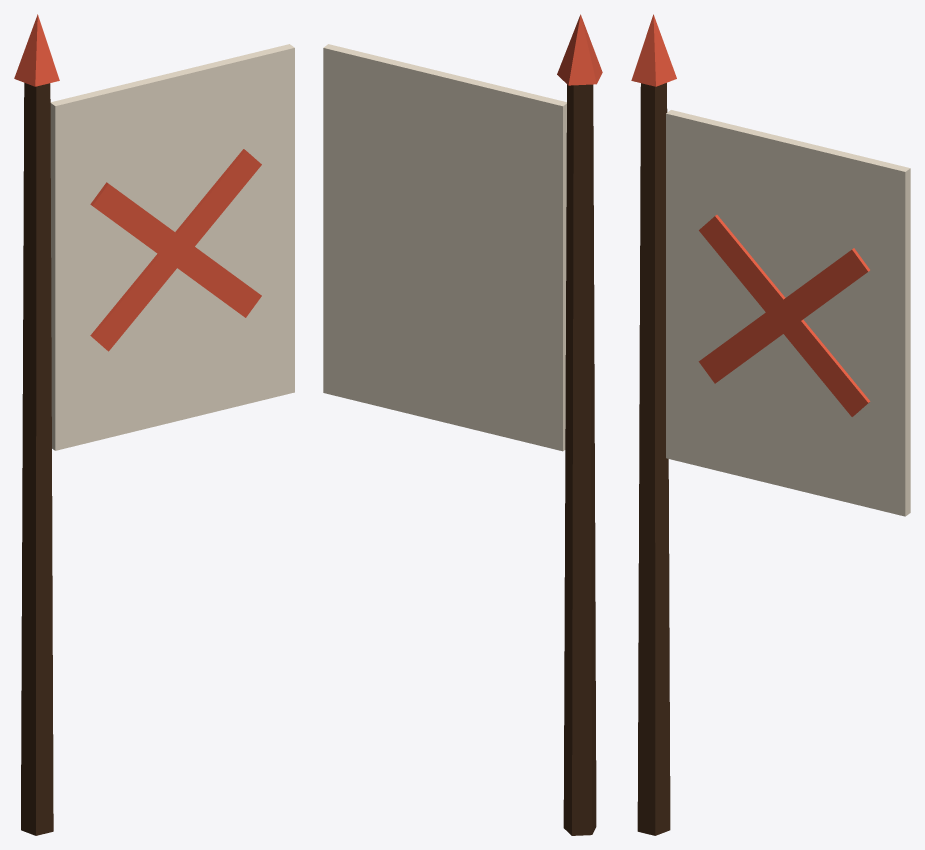
The model's file is prop_plague_banner.glb.
The picture shows the model from 3 angles, left to right: view 1: azimuth 30°, elevation 25°; view 2: azimuth 150°, elevation 25°; view 3: azimuth 330°, elevation 25°; orthographic projection.
Parts seen in each view (by area): view 1: prop_plague_banner; view 2: prop_plague_banner; view 3: prop_plague_banner.
Boxes of the visible parts, x1=… form: prop_plague_banner: x1=14, y1=14, x2=294, y2=835; prop_plague_banner: x1=323, y1=14, x2=602, y2=835; prop_plague_banner: x1=631, y1=14, x2=910, y2=835.
Bounding box in the file's own units: 0.9166 × 2.6 × 0.1266.
